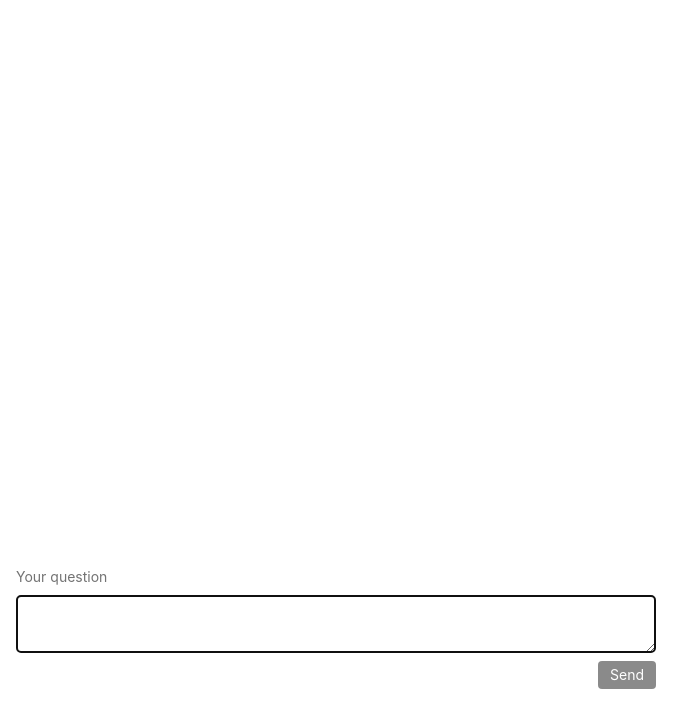
Test: Chat (jsdom) › on 429 shows seconds, disables Send and Retry, and re-enables after the timeout
Later steps or results of the test are not shown.
Type "q" into the text box labelled "Your question".
click(336, 624); type("q")  # box [16, 595, 656, 653]
Then press Enter
Wait 7000 ms
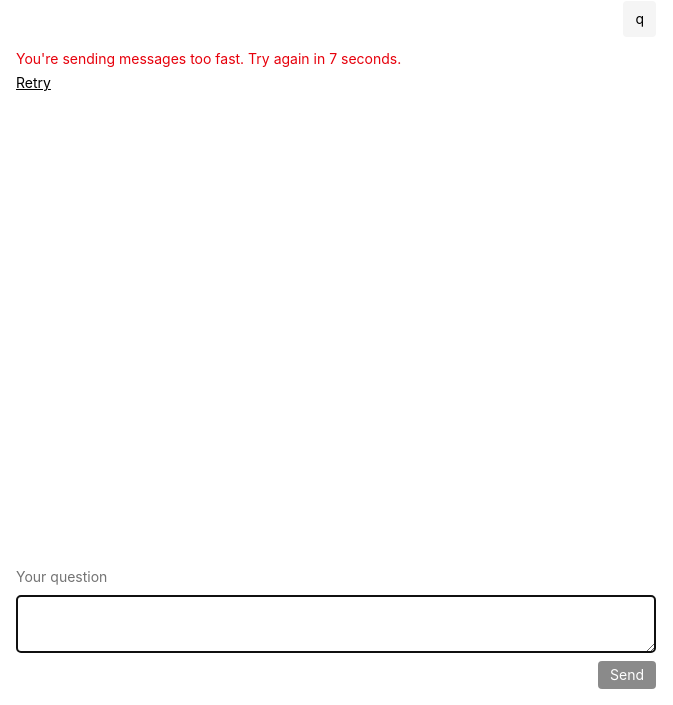
expect the button "Send" is disabled: met, box [598, 661, 656, 689]
expect the text "You're sending messages too fast. Try again in 7 seconds." is shown: met, box [16, 49, 401, 69]
expect the button "Retry" is enabled: met
Click the button "Retry".
click(33, 83)  # box [16, 73, 51, 93]
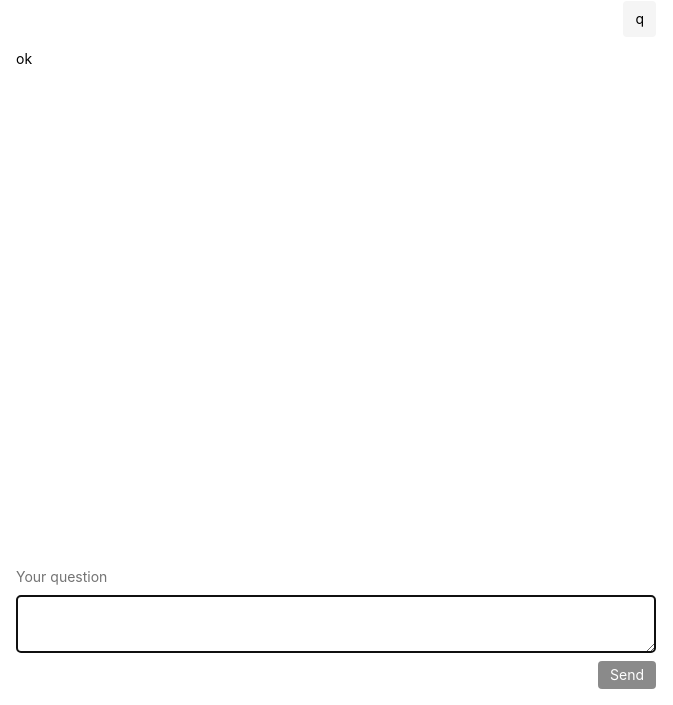
expect the text "ok" is shown: met, box [16, 49, 32, 69]
